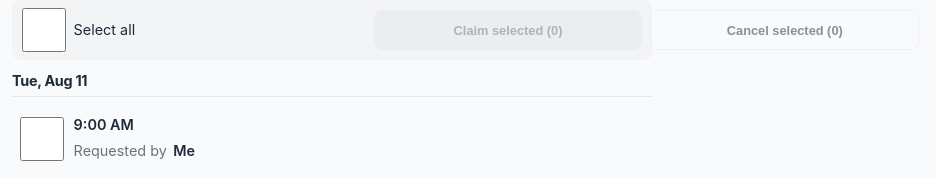
Scenario: NeedsCoverageList › bulk cancel › disables the Cancel selected button until at least one request is checked
expect the button "Cancel selected (0)" is disabled: met, box x1=650 y1=10 x2=919 y2=50
What coordinates should you click on to do the following:
click the checkbox named "2026-08-11"
I would click on:
 (42, 139)
Its box is x1=20 y1=117 x2=64 y2=161.
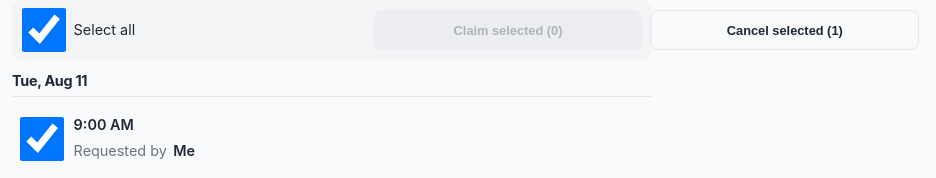
expect the button "Cancel selected (1)" is enabled: met, box x1=650 y1=10 x2=919 y2=50
